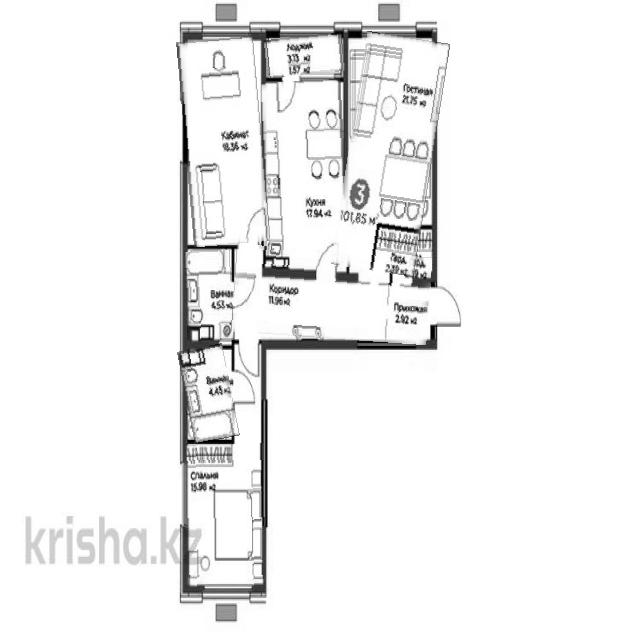balcony: (264, 33, 345, 78)
bathroom: (182, 345, 236, 443), (185, 250, 233, 342)
hallway: (232, 244, 431, 345)
kitchen: (264, 80, 348, 274)
living_room: (332, 33, 450, 277), (181, 38, 266, 246), (184, 443, 265, 591)
